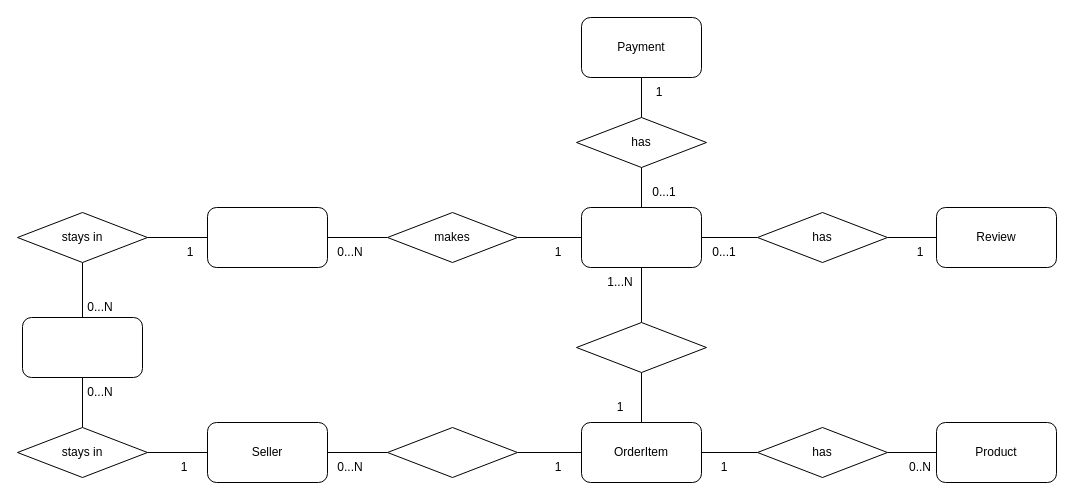
This 1074x500 diagram has some shape labels left out. The centre of each missing label's shape, as x and y in pixels:
"Customer" belongs at (x=267, y=237).
"Geolocation" belongs at (x=82, y=347).
"includes" belongs at (x=641, y=347).
"Order" belongs at (x=641, y=237).
"sells" belongs at (x=452, y=452).
